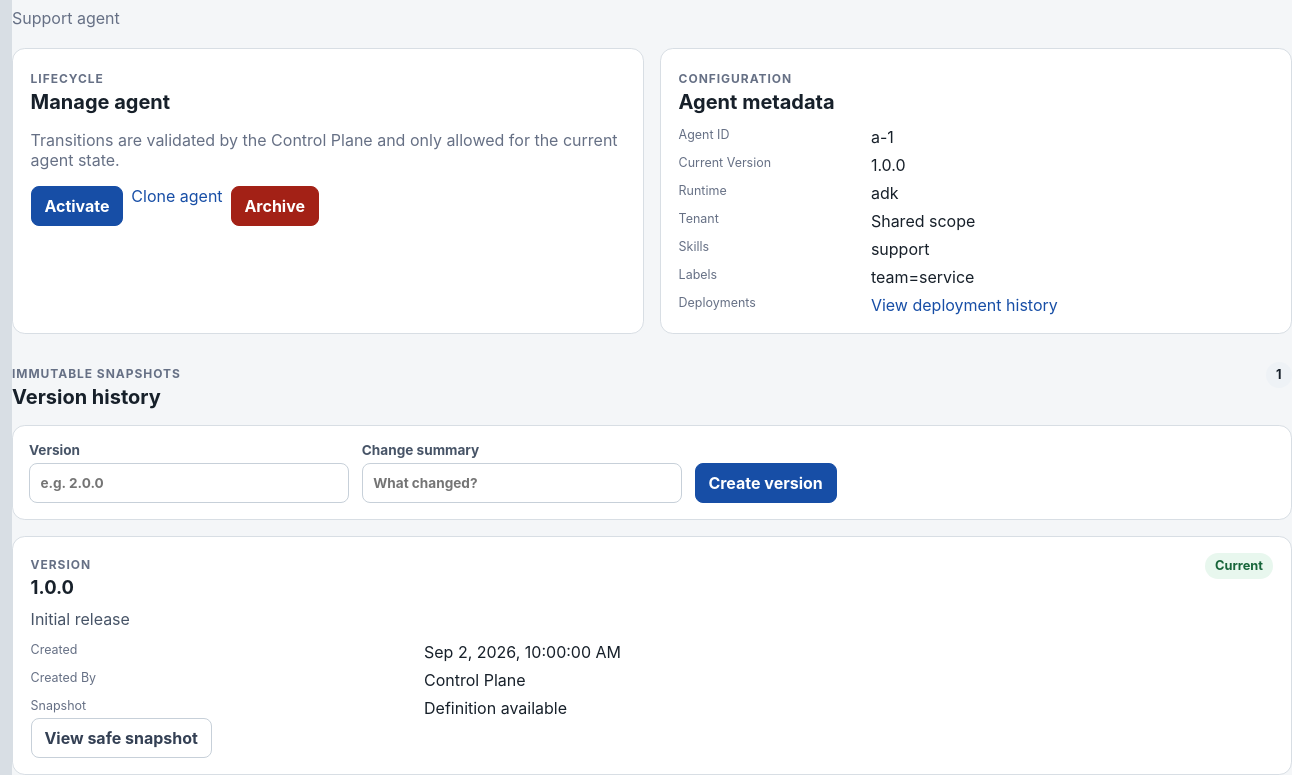
it: AgentDetailPage › loads and renders a safe immutable snapshot on demand
(page scrolled)
Click the button "View safe snapshot" at (121, 738), box [31,718,212,758]
(page scrolled)
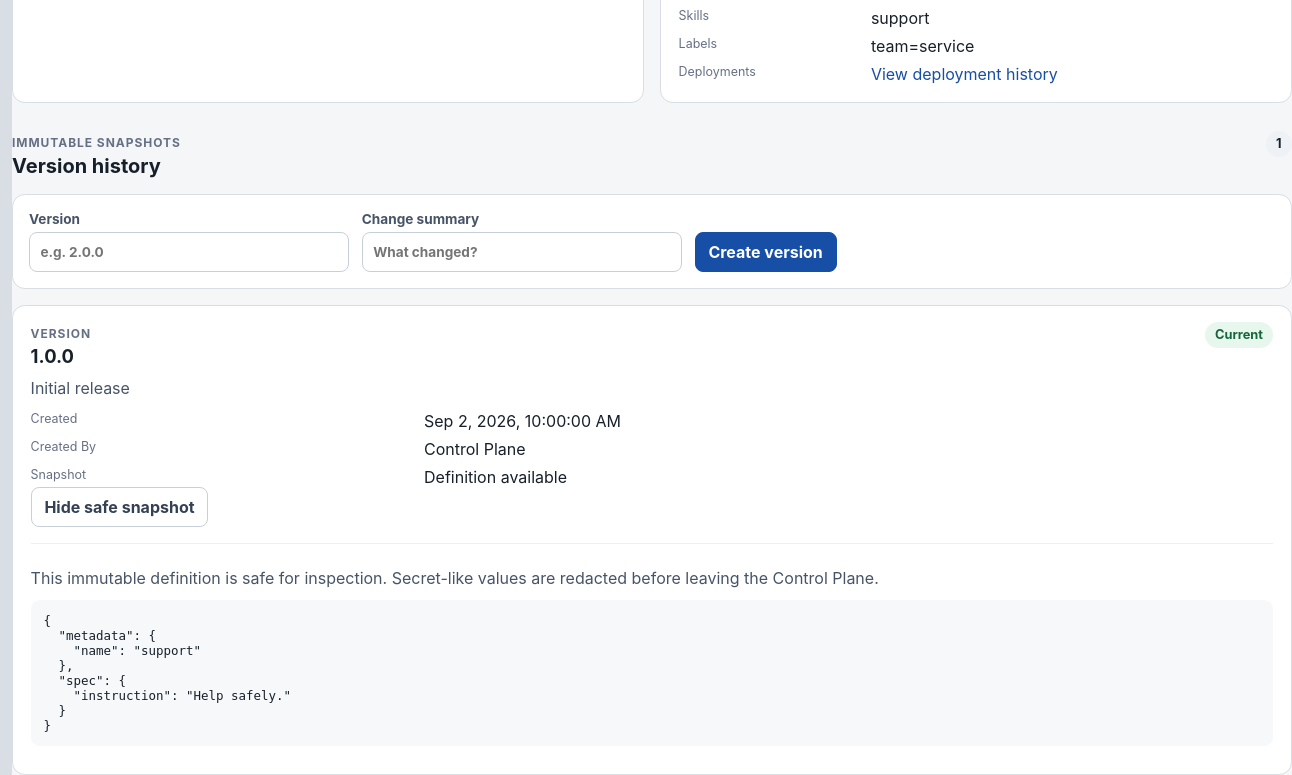
Expected: the text named "Safe definition for version 1.0.0" shows "Help safely.", [43,613,291,733]
